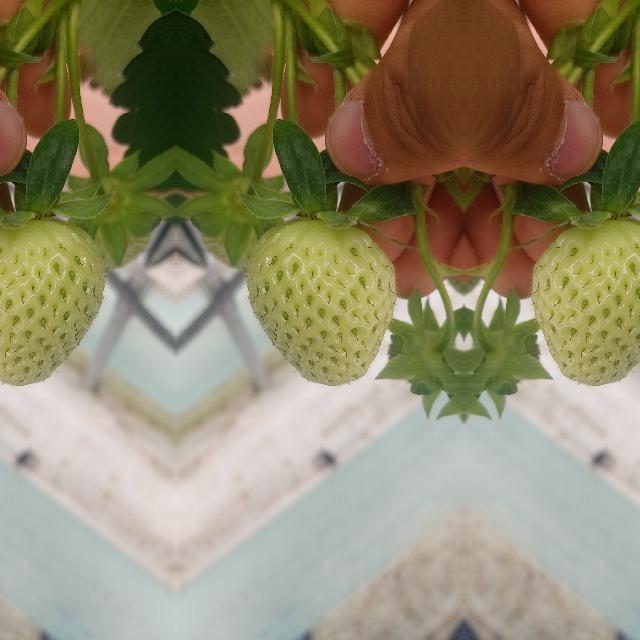Health_25: (245, 217, 395, 385), (531, 217, 640, 385), (0, 217, 105, 385)
